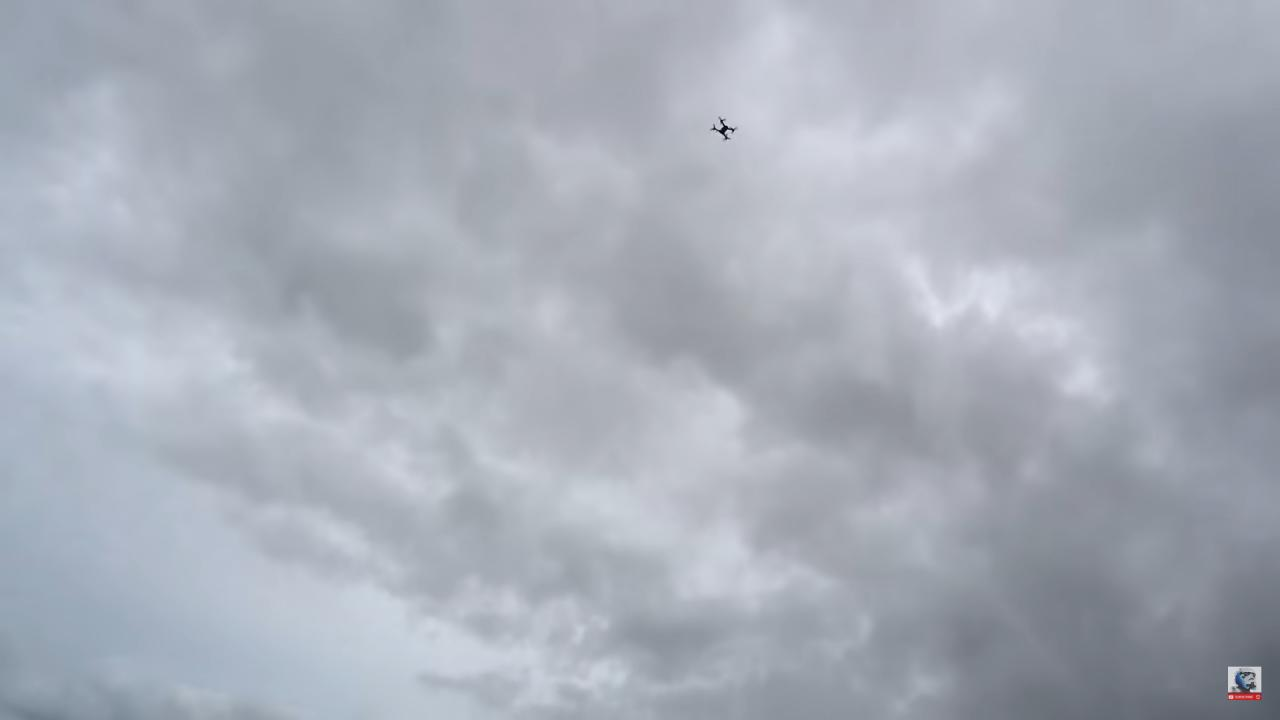Drone: (700, 107, 746, 151)
